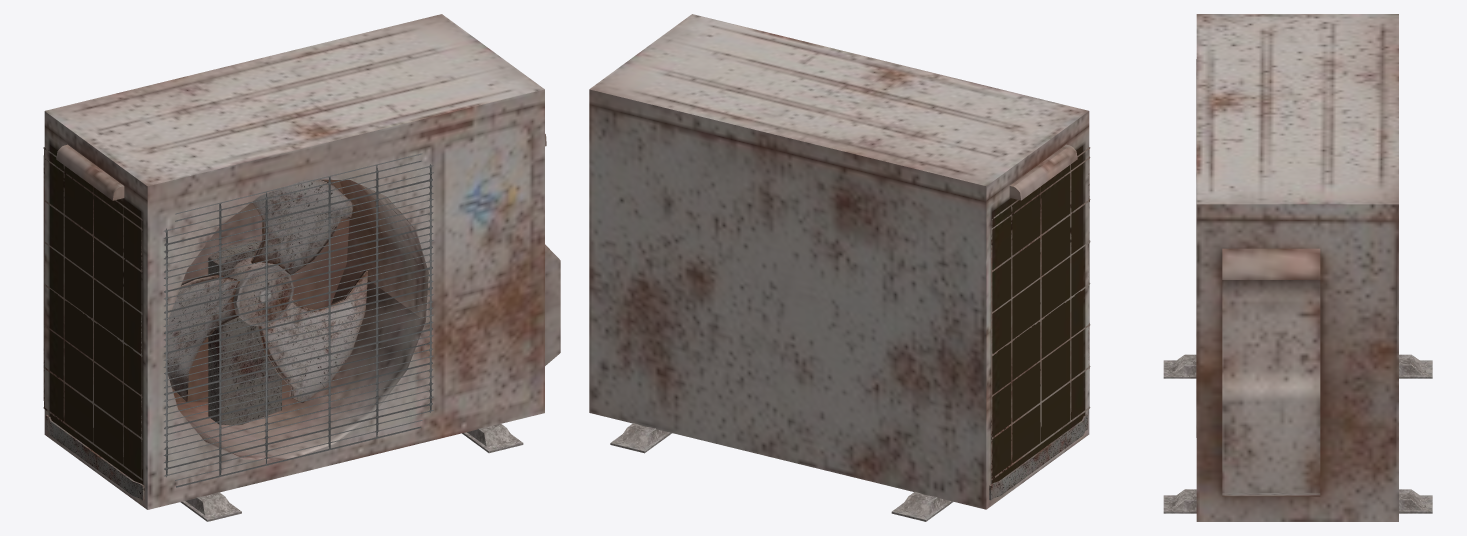
File: deco-clim.glb
The picture shows the model from 3 angles, left to right: view 1: azimuth 30°, elevation 25°; view 2: azimuth 150°, elevation 25°; view 3: azimuth 270°, elevation 25°; orthographic projection.
Visible parts, largest first — view 1: polySurface9_aiStandardSurface3_0, polySurface6_aiStandardSurface9_0, polySurface3_aiStandardSurface6_0, polySurface2_aiStandardSurface10_0, polySurface4_aiStandardSurface6_0, polySurface11_aiStandardSurface6_0, polySurface8_aiStandardSurface1_0, polySurface5_aiStandardSurface5_0, polySurface7_aiStandardSurface8_0, polySurface10_aiStandardSurface7_0, polySurface1_aiStandardSurface7_0; view 2: polySurface9_aiStandardSurface3_0, polySurface8_aiStandardSurface1_0, polySurface7_aiStandardSurface8_0, polySurface1_aiStandardSurface7_0, polySurface10_aiStandardSurface7_0; view 3: polySurface9_aiStandardSurface3_0, polySurface10_aiStandardSurface7_0, polySurface1_aiStandardSurface7_0.
Part boxes in pixels (x1=…): polySurface9_aiStandardSurface3_0: x1=44, y1=14, x2=560, y2=509; polySurface6_aiStandardSurface9_0: x1=163, y1=153, x2=433, y2=487; polySurface3_aiStandardSurface6_0: x1=258, y1=270, x2=367, y2=403; polySurface2_aiStandardSurface10_0: x1=208, y1=239, x2=281, y2=425; polySurface4_aiStandardSurface6_0: x1=251, y1=179, x2=353, y2=274; polySurface11_aiStandardSurface6_0: x1=165, y1=274, x2=239, y2=401; polySurface8_aiStandardSurface1_0: x1=43, y1=147, x2=142, y2=480; polySurface5_aiStandardSurface5_0: x1=228, y1=256, x2=294, y2=326; polySurface7_aiStandardSurface8_0: x1=45, y1=414, x2=144, y2=500; polySurface10_aiStandardSurface7_0: x1=462, y1=423, x2=523, y2=453; polySurface1_aiStandardSurface7_0: x1=180, y1=492, x2=241, y2=521; polySurface9_aiStandardSurface3_0: x1=589, y1=14, x2=1089, y2=509; polySurface8_aiStandardSurface1_0: x1=991, y1=147, x2=1090, y2=480; polySurface7_aiStandardSurface8_0: x1=989, y1=414, x2=1087, y2=500; polySurface1_aiStandardSurface7_0: x1=891, y1=492, x2=953, y2=521; polySurface10_aiStandardSurface7_0: x1=610, y1=423, x2=671, y2=453; polySurface9_aiStandardSurface3_0: x1=1196, y1=14, x2=1398, y2=521; polySurface10_aiStandardSurface7_0: x1=1163, y1=489, x2=1432, y2=513; polySurface1_aiStandardSurface7_0: x1=1163, y1=354, x2=1432, y2=378.
Bounding box in the file's own units: 0.8627 × 0.6284 × 0.5321.
Materials: 8 (8 with a texture image).
